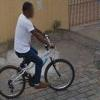bicycles: (0, 34, 76, 98)
